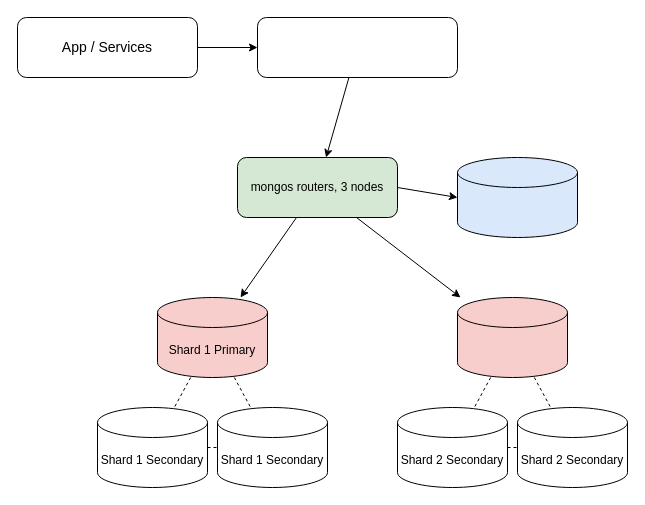
This 645x505 diagram has some shape labels left out. The shapes that lost their labels are listed below. From the top down, each one's centre as x and y in pixels, then its label:
the point at 357,47: pymongo-api / backend
the point at 517,197: Config Server, 3 nodes
the point at 512,337: Shard 2 Primary
